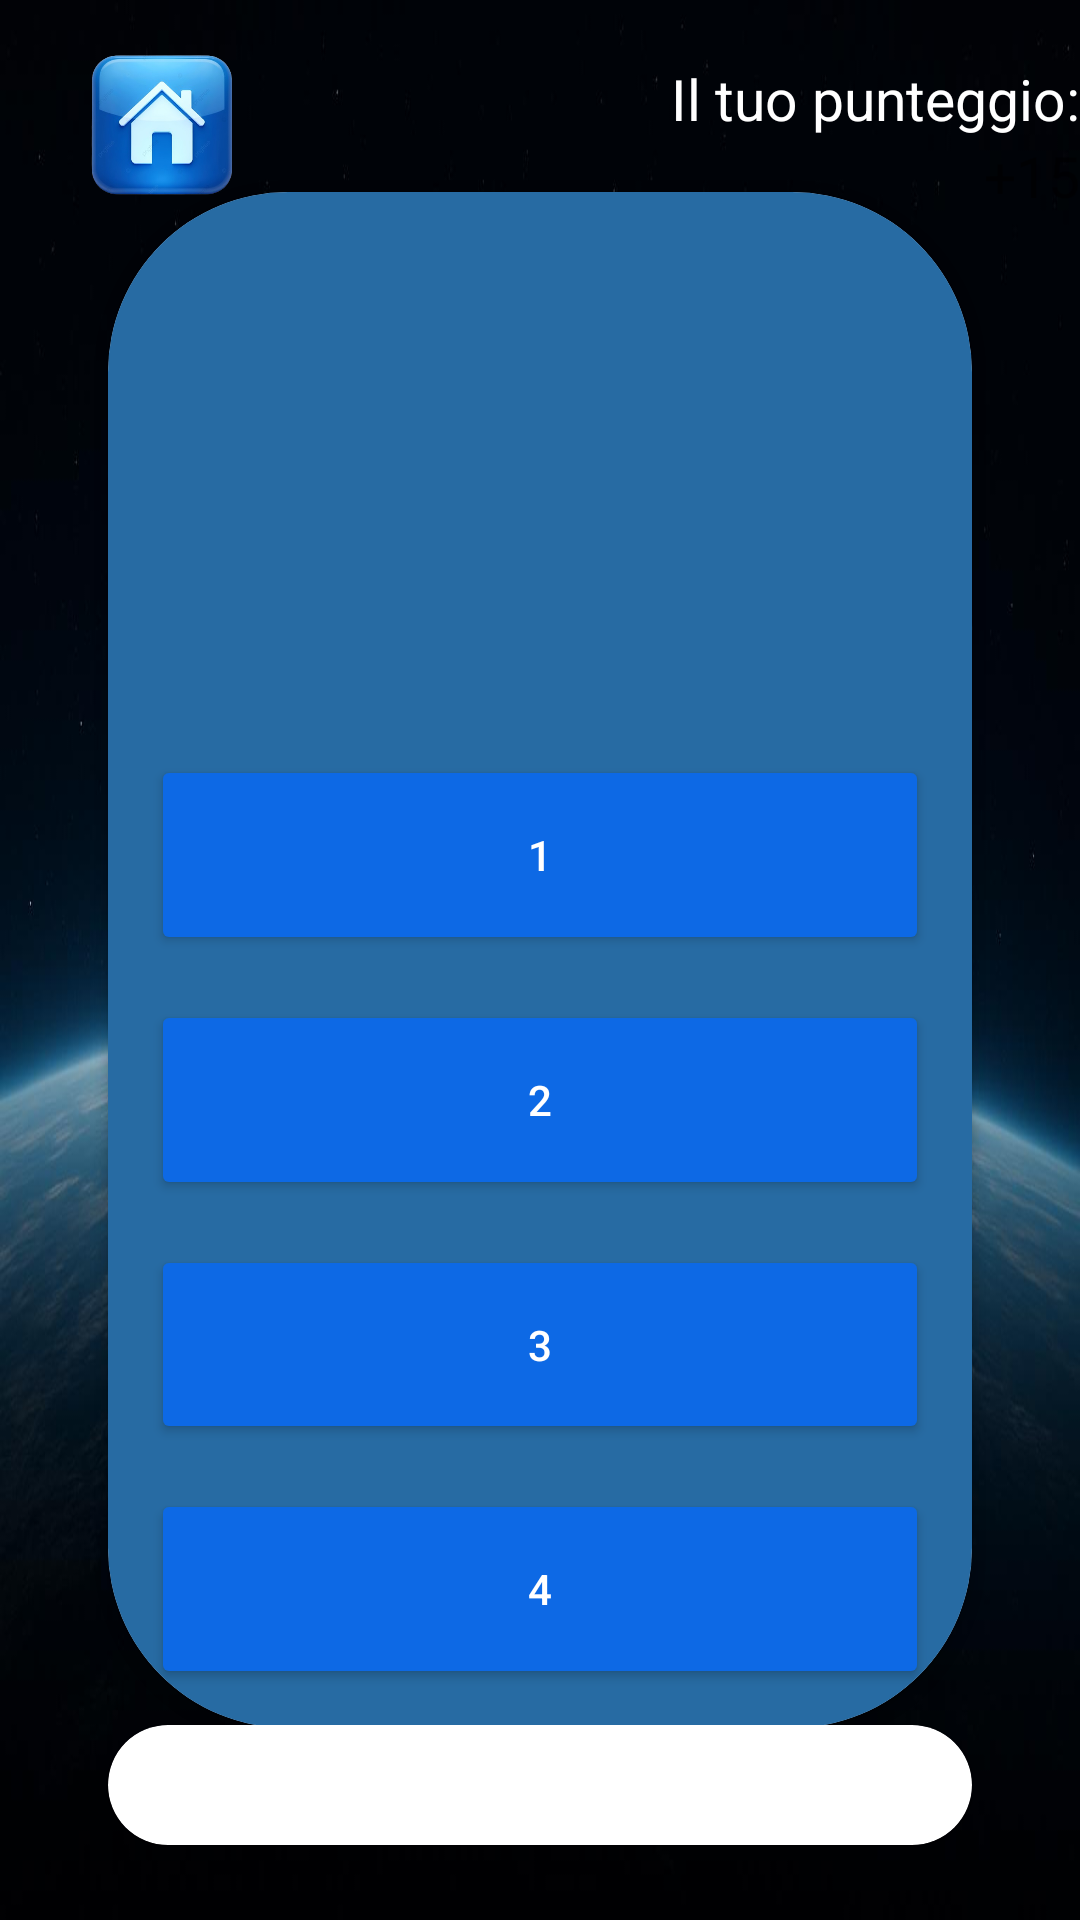

Where icons sit on this 1080*1920 app screen, as rect(x1, y1, x2, y2):
immagine home: rect(39, 55, 232, 222)
